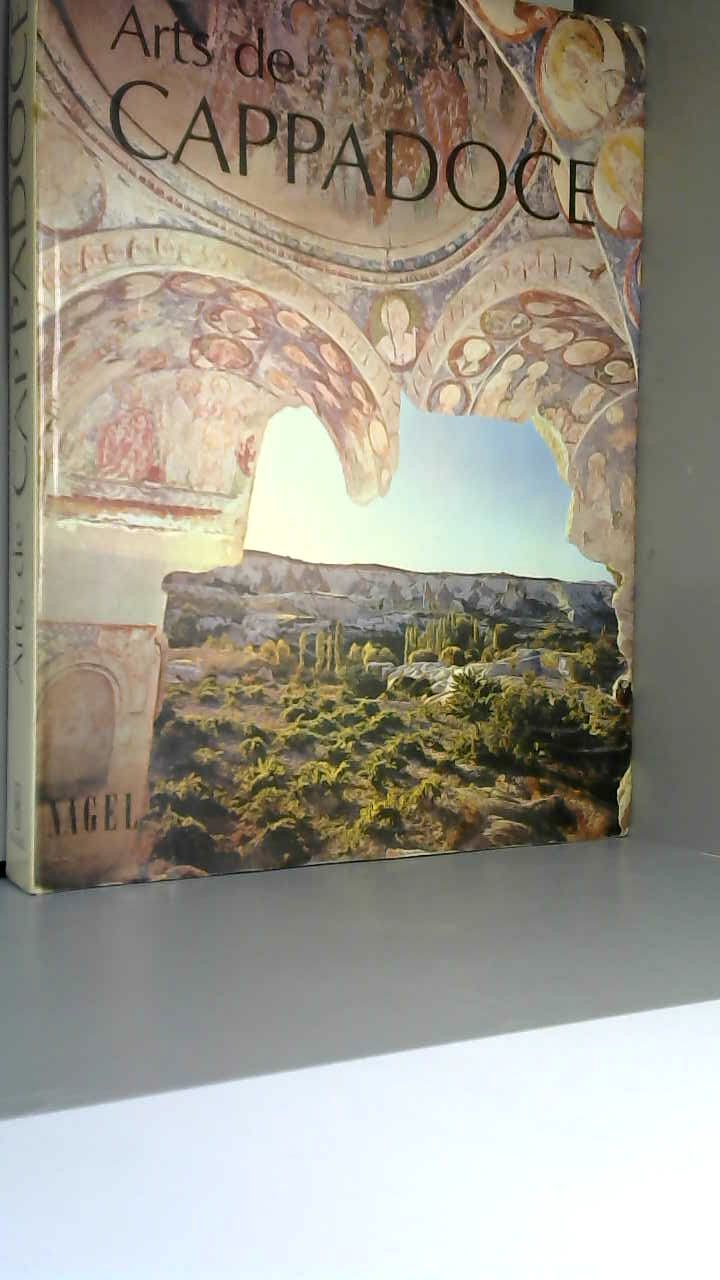book: (0, 0, 677, 917)
